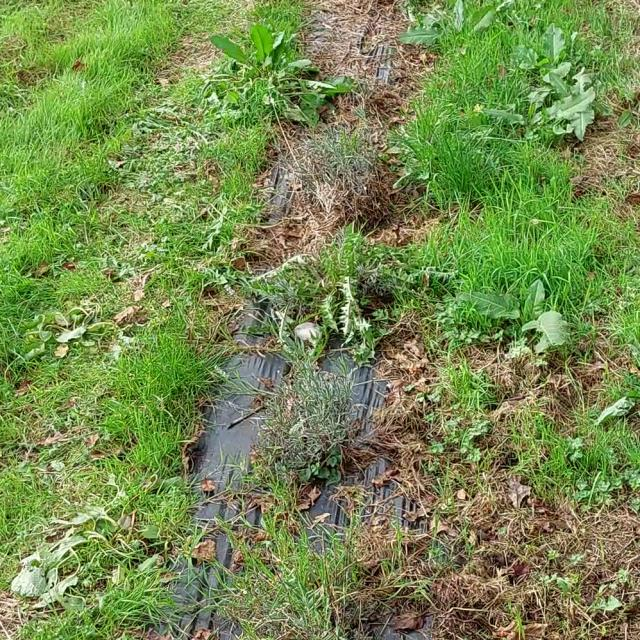organic waste: (198, 0, 336, 133), (15, 511, 146, 608), (482, 259, 590, 371), (33, 281, 126, 365), (378, 0, 505, 47), (505, 15, 578, 90)
